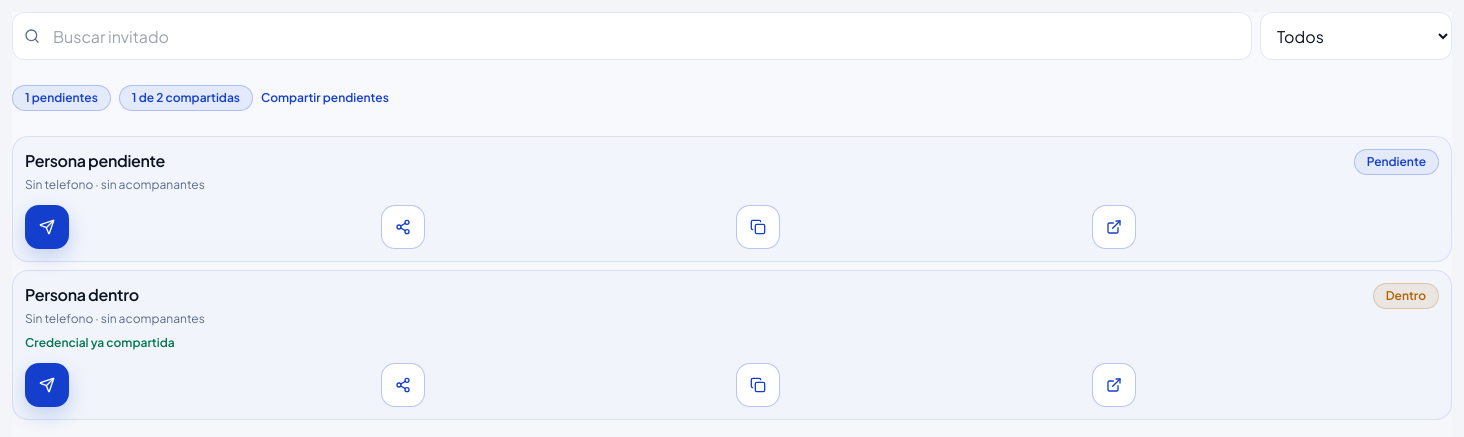
Test: EventGuestList › reports shared progress and narrows the list to pending guests before sharing
Expected: the text "1 de 2 compartidas" is shown, [119,85,253,111]
Click the button "Compartir pendientes" at coordinates (325, 98), box [261,76,389,120]
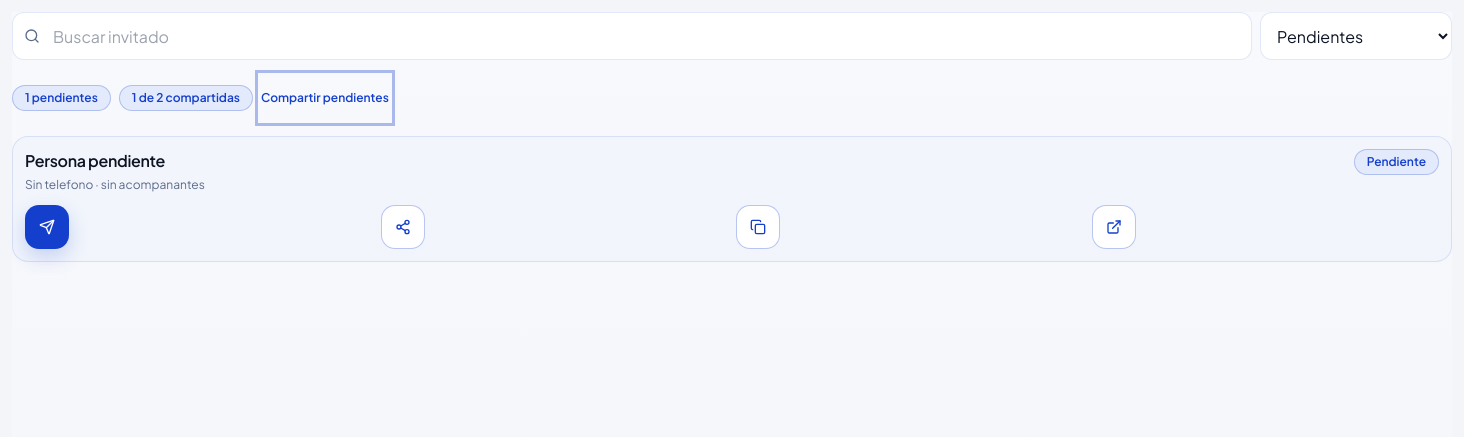
Expected: the heading "Persona pendiente" is shown, [25,150,165,171]
Result: the heading "Persona dentro" is gone
